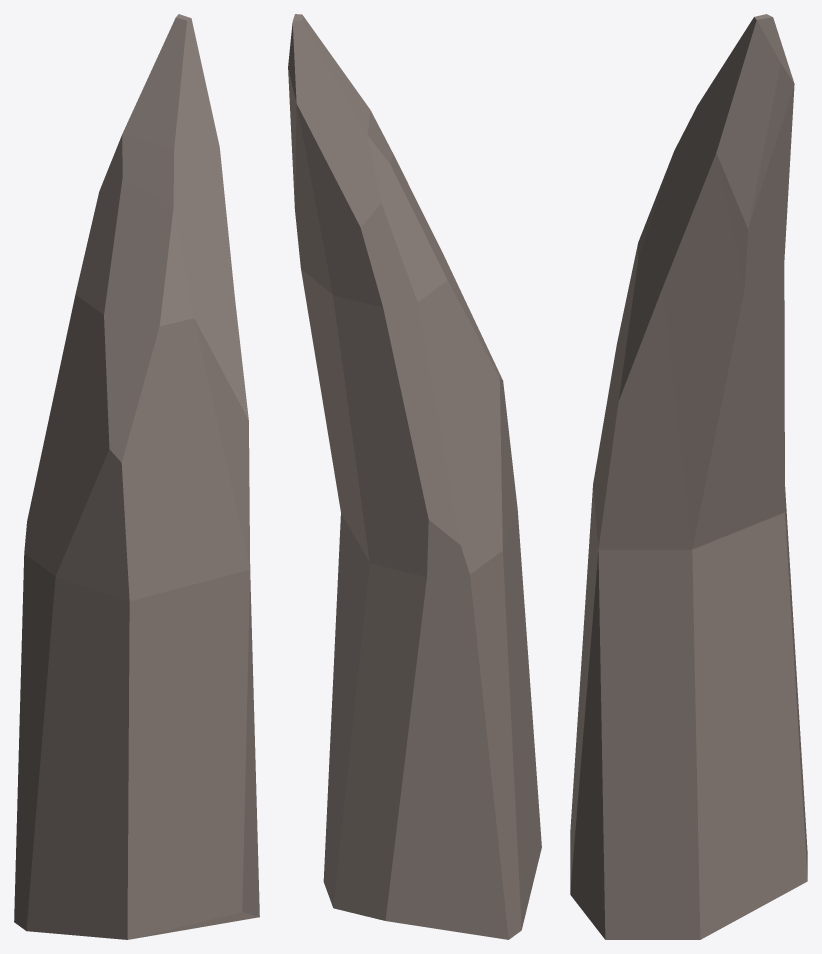
The model's file is Rock_Sharp_m_07.fbx.
3 views of the same model, side by side, from view 1: azimuth 30°, elevation 25°; view 2: azimuth 150°, elevation 25°; view 3: azimuth 270°, elevation 25° (orthographic). The views are drawn at different scales.
Visible parts, largest first — view 1: Rock_Sharp_m_07; view 2: Rock_Sharp_m_07; view 3: Rock_Sharp_m_07.
Boxes of the visible parts, box(x1,y1,x2,y2) form: Rock_Sharp_m_07: box(14, 14, 259, 939); Rock_Sharp_m_07: box(288, 14, 541, 939); Rock_Sharp_m_07: box(570, 14, 807, 939).
Size of the model in its own units: 0.5292 by 2.14 by 0.5001.
